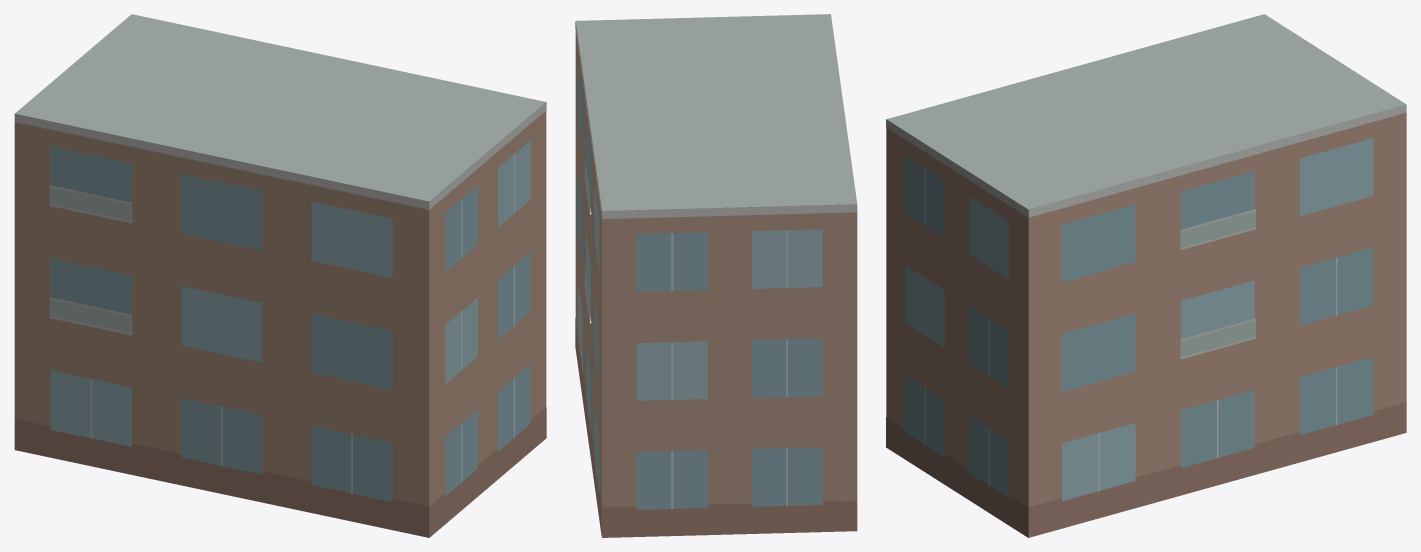
Rendered from survey-upis-32815645.glb.
3 views of the same model, side by side, from view 1: azimuth 30°, elevation 25°; view 2: azimuth 150°, elevation 25°; view 3: azimuth 270°, elevation 25° (orthographic). The views are drawn at different scales.
Parts seen in each view (by area): view 1: survey-upis-32815645.tmp; view 2: survey-upis-32815645.tmp; view 3: survey-upis-32815645.tmp.
Part boxes in pixels (x1,y1,x2,y2): survey-upis-32815645.tmp: [14, 14, 546, 537]; survey-upis-32815645.tmp: [575, 14, 857, 537]; survey-upis-32815645.tmp: [886, 14, 1406, 537].
Bounding box in the file's own units: 12.6 × 9.85 × 14.16.
